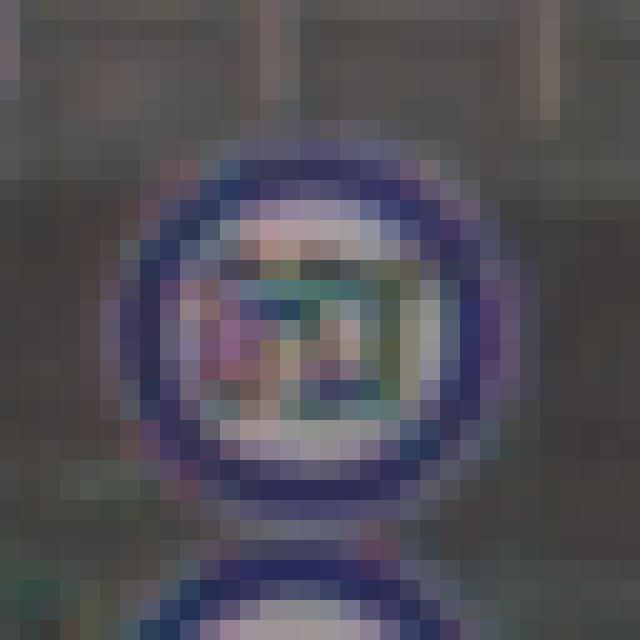SPEED LIMIT 120: (115, 137, 503, 507)
